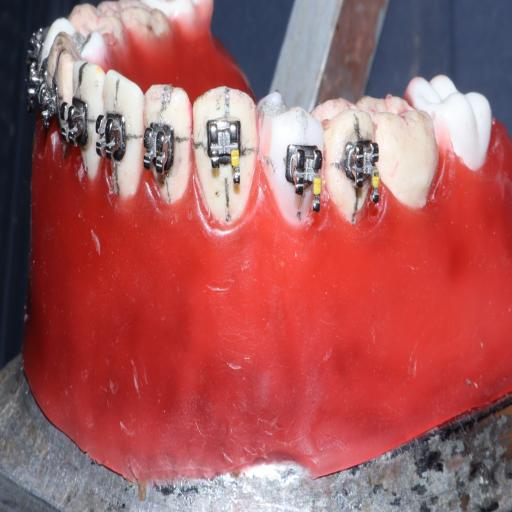incorrect_brace: (202, 112, 245, 189)
